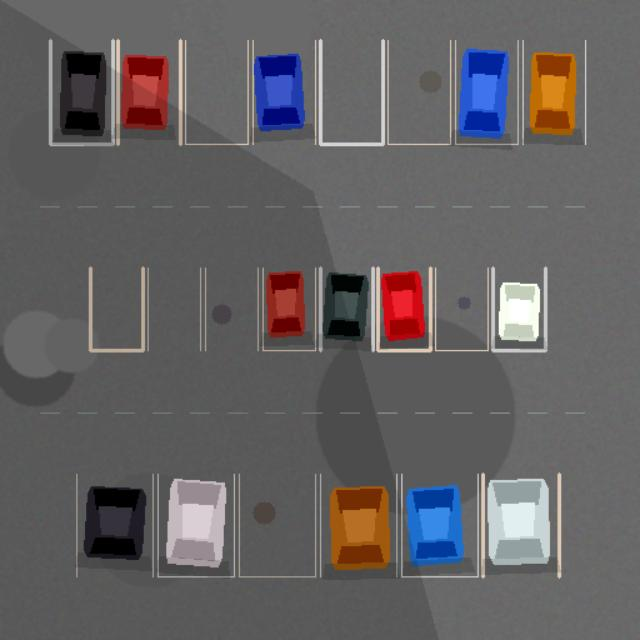space-empty: (239, 474, 315, 576), (185, 40, 248, 144), (320, 40, 382, 144), (388, 40, 450, 144), (90, 268, 143, 350), (147, 268, 200, 350), (205, 268, 257, 350), (435, 268, 487, 350)
space-occupied: (76, 474, 153, 576), (157, 474, 234, 576), (320, 474, 396, 576), (401, 474, 477, 576), (483, 474, 559, 576), (252, 40, 315, 144), (455, 40, 518, 144), (522, 40, 585, 144), (50, 40, 112, 144), (118, 40, 180, 144), (320, 268, 373, 350), (377, 268, 430, 350), (263, 268, 315, 350), (493, 268, 545, 350)
